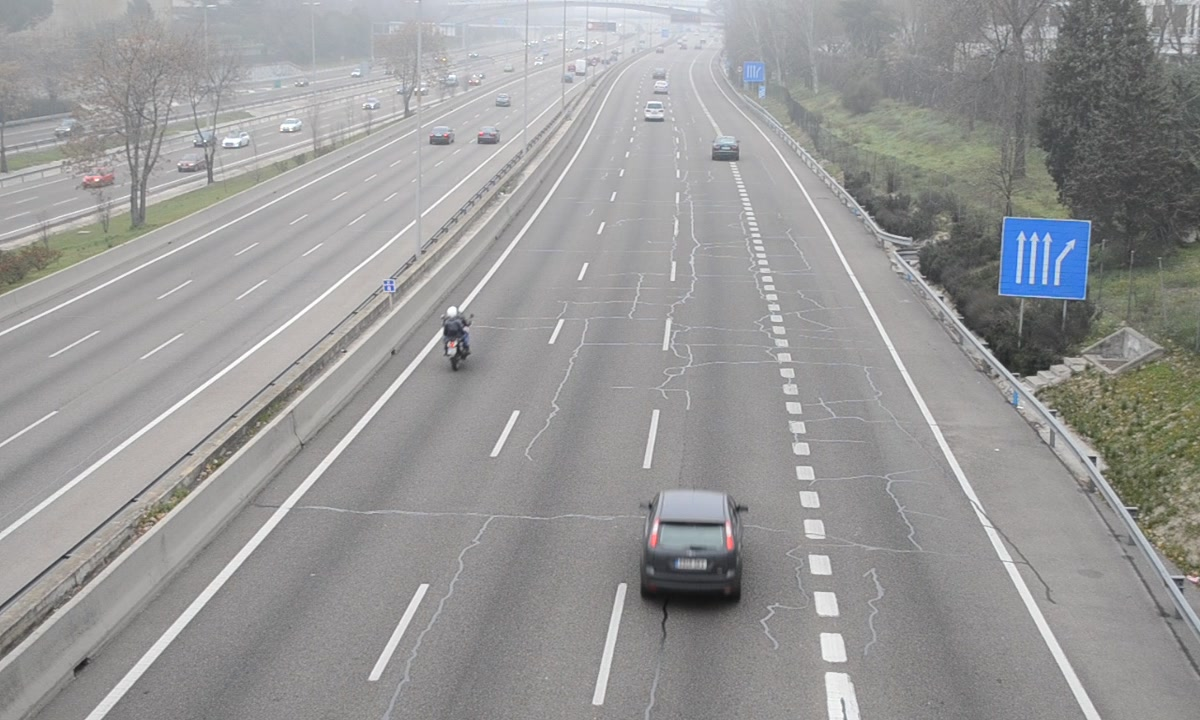car: (640, 491, 744, 601), (711, 136, 739, 161), (644, 101, 666, 123)
motorcycle: (441, 306, 471, 371)
